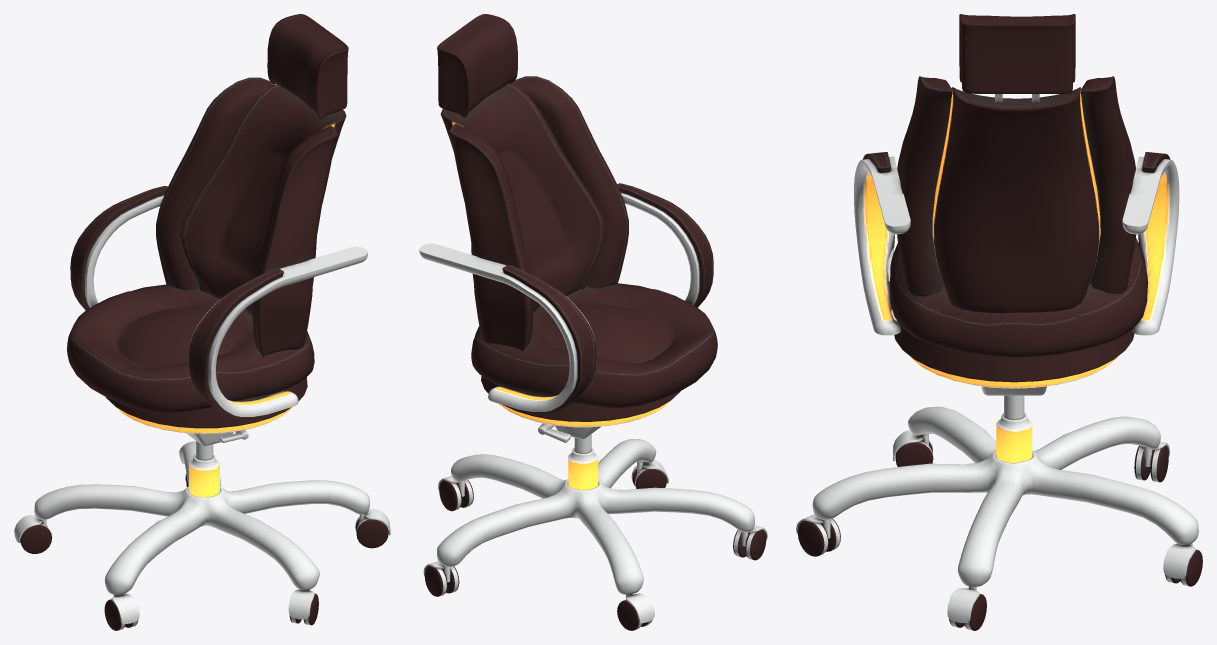
File: SM_ChairConsole2.fbx
3 views of the same model, side by side, from view 1: azimuth 30°, elevation 25°; view 2: azimuth 150°, elevation 25°; view 3: azimuth 270°, elevation 25° (orthographic). The views are drawn at different scales.
Visible parts, largest first — view 1: SM_ChairConsole2_LOD0; view 2: SM_ChairConsole2_LOD0; view 3: SM_ChairConsole2_LOD0.
Boxes of the visible parts, x1,y1,x2,y2 form: SM_ChairConsole2_LOD0: [14, 14, 390, 630]; SM_ChairConsole2_LOD0: [419, 14, 767, 630]; SM_ChairConsole2_LOD0: [796, 14, 1202, 630].
Size of the model in its own units: 70.05 by 112 by 69.97.
1 material, 1 textured.
